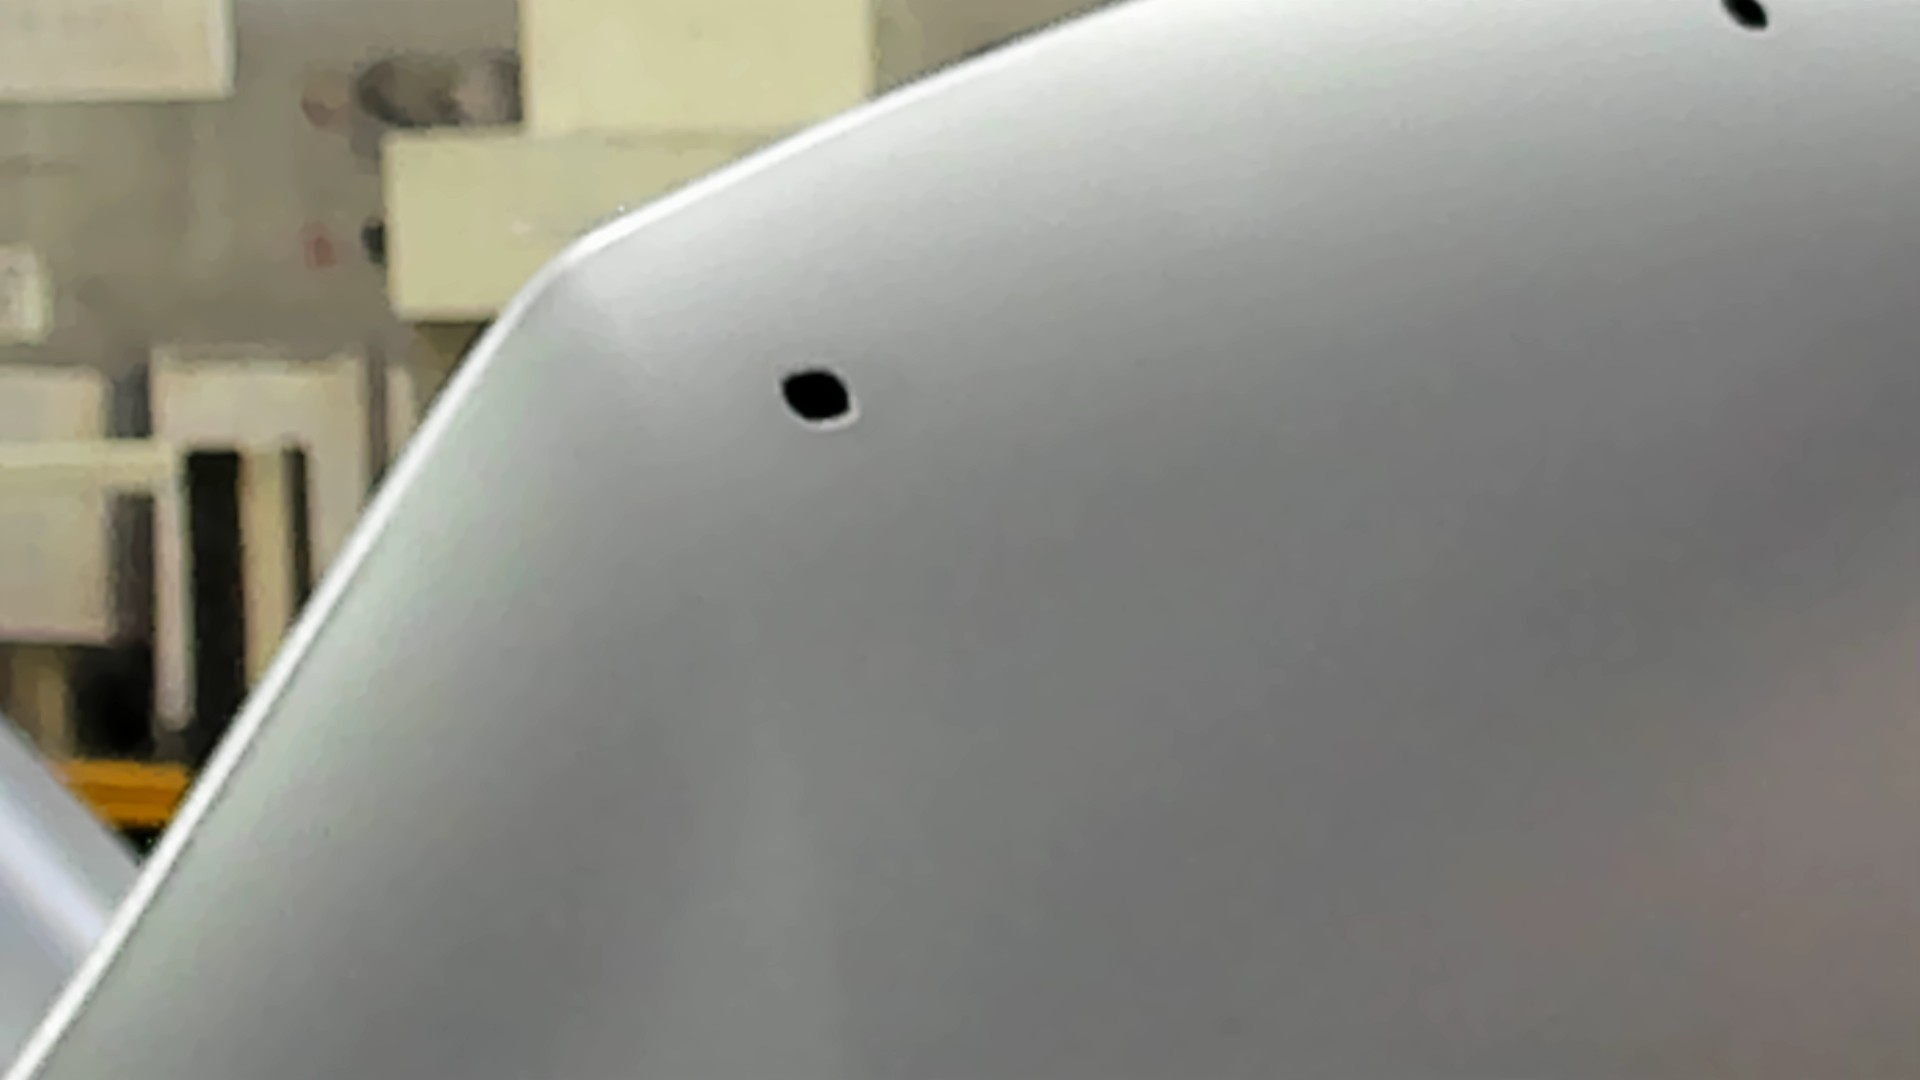amorfo: (771, 360, 866, 429), (1709, 1, 1782, 40)
